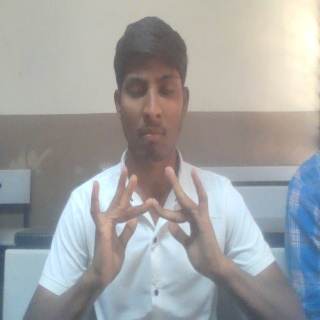Face: (111, 15, 192, 164)
Internet: (85, 165, 234, 294)
